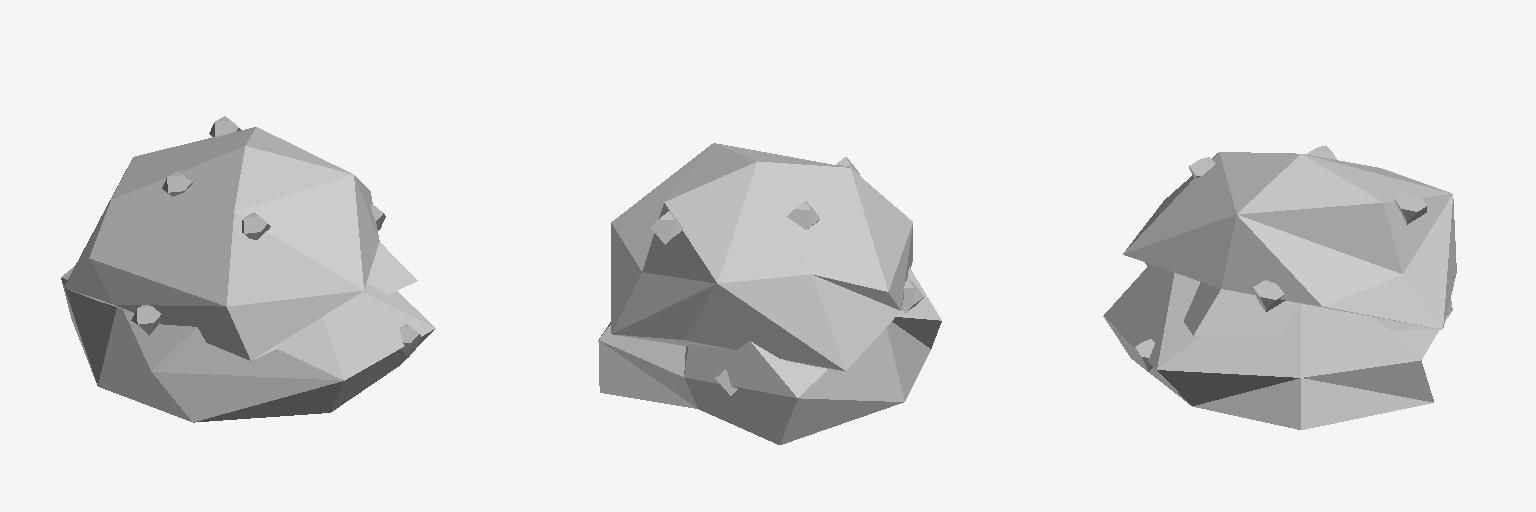
Rendered from bush.obj.
3 views of the same model, side by side, from view 1: azimuth 30°, elevation 25°; view 2: azimuth 150°, elevation 25°; view 3: azimuth 270°, elevation 25° (orthographic).
Visible parts, largest first — view 1: pCube16; view 2: pCube16; view 3: pCube16.
Boxes of the visible parts, <box> form: pCube16: <box>61,116,435,422</box>; pCube16: <box>598,143,941,444</box>; pCube16: <box>1103,145,1456,429</box>.
Size of the model in its own units: 33.85 by 22.43 by 35.14.